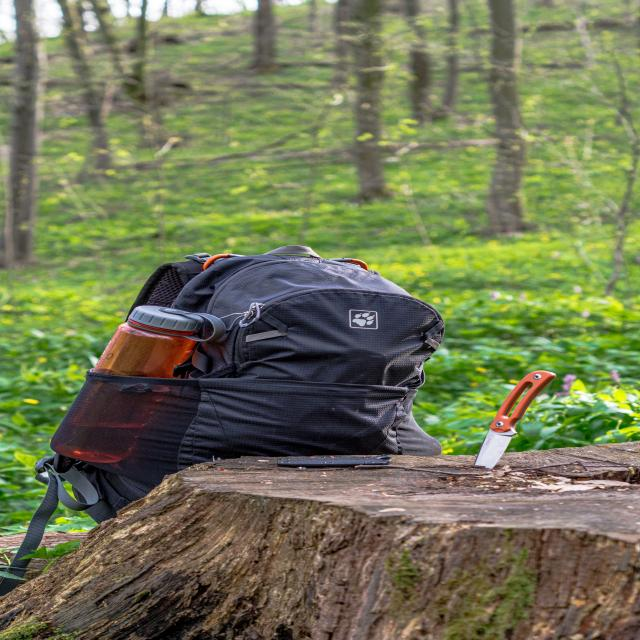backpack: (39, 235, 448, 515)
